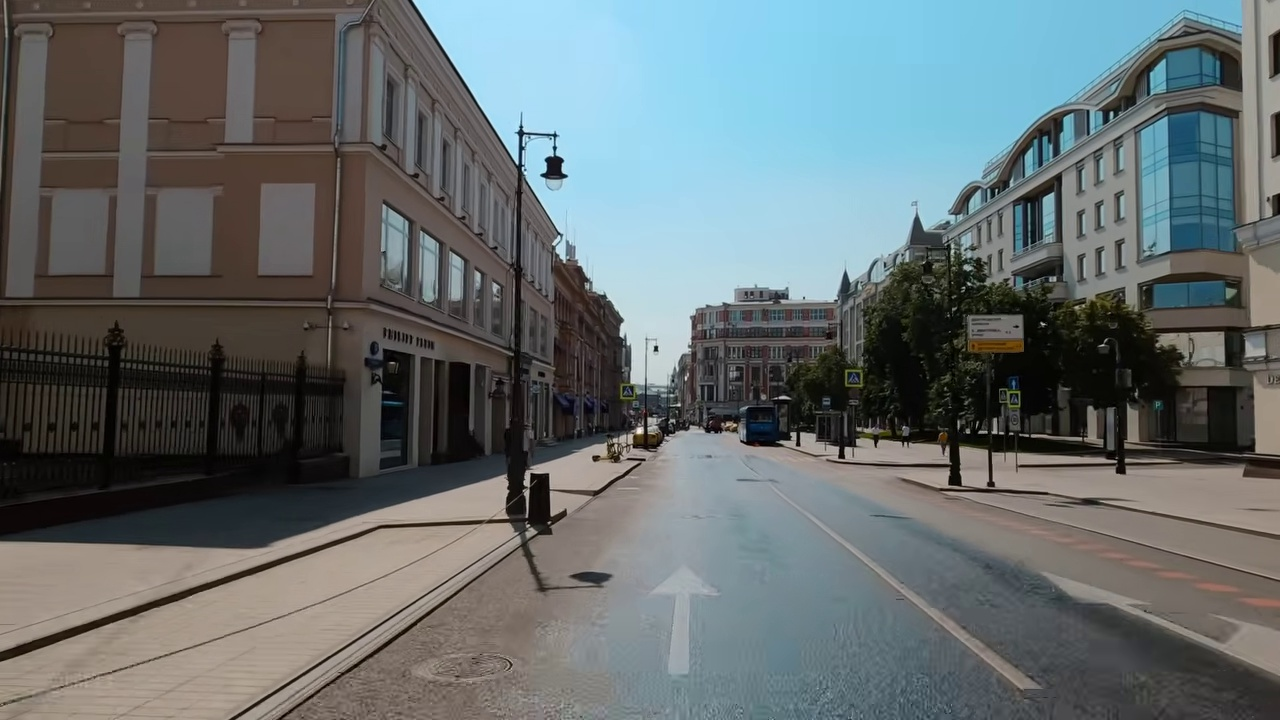apagada: (544, 152, 568, 199)
